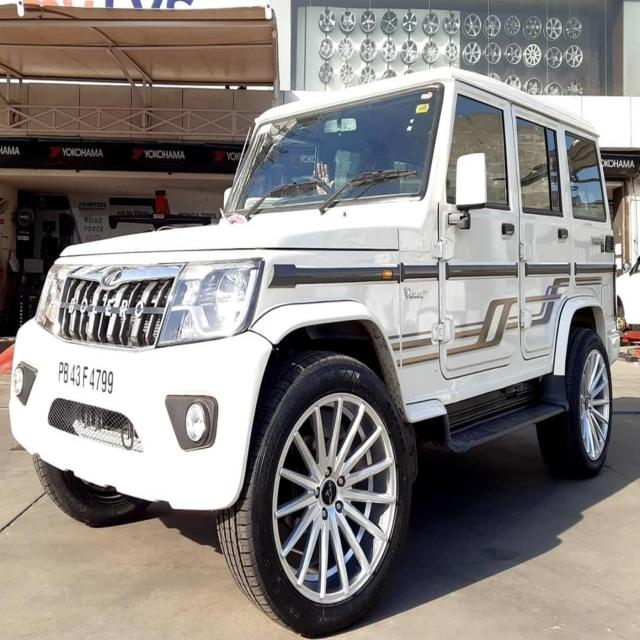light_vehicle: (12, 71, 617, 625)
